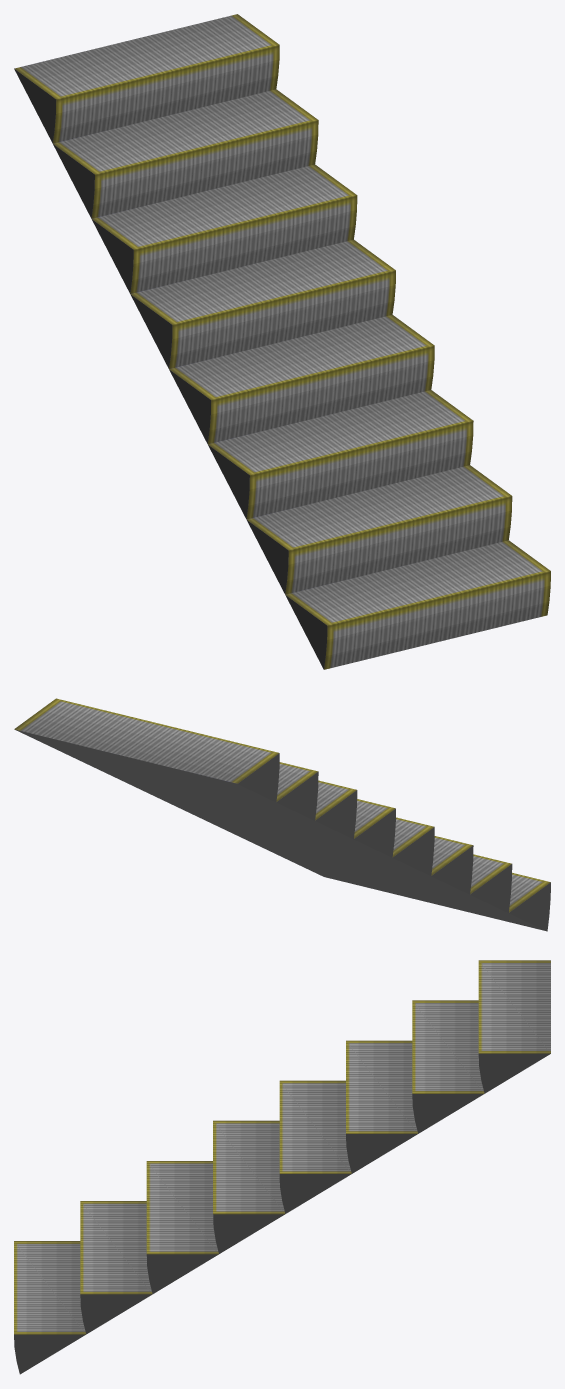
File: SW_ENV_Escalator_8Step.fbx
3 views of the same model, one above another, from view 1: azimuth 30°, elevation 25°; view 2: azimuth 150°, elevation 25°; view 3: azimuth 270°, elevation 25° (orthographic). The views are drawn at different scales.
Parts seen in each view (by area): view 1: SW_ENV_Escalator_8Step; view 2: SW_ENV_Escalator_8Step; view 3: SW_ENV_Escalator_8Step.
Boxes of the visible parts, left/top/right/bottom form: SW_ENV_Escalator_8Step: left=14, top=14, right=550, bottom=669; SW_ENV_Escalator_8Step: left=14, top=698, right=550, bottom=931; SW_ENV_Escalator_8Step: left=14, top=960, right=550, bottom=1374.
Size of the model in its own units: 100 by 160 by 243.
